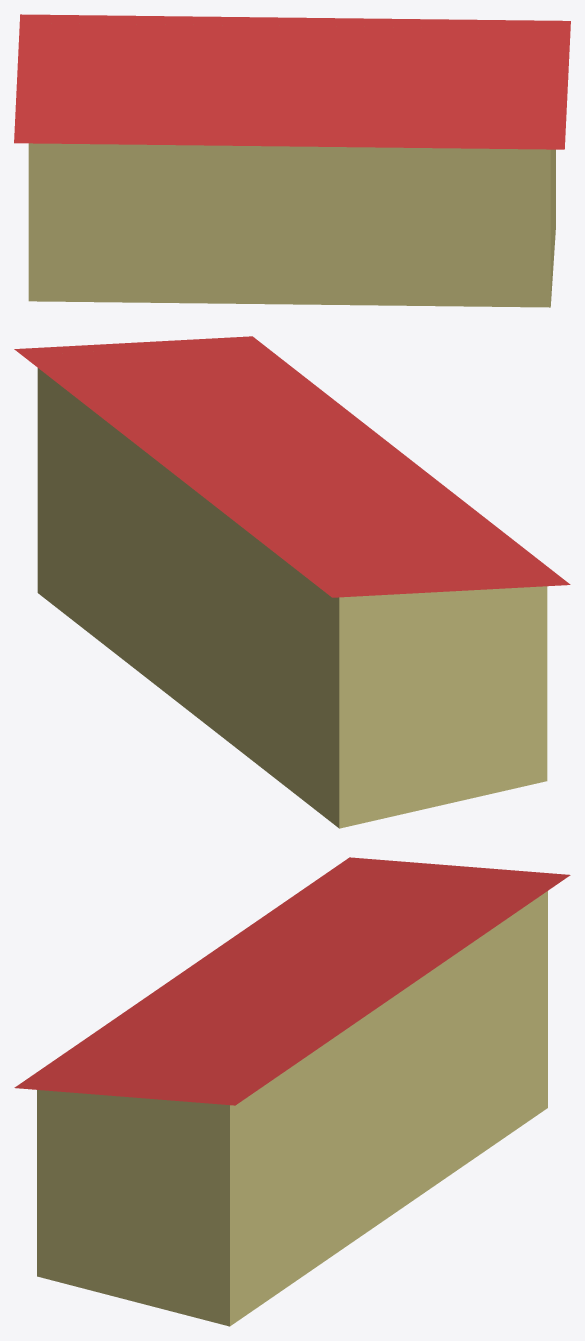
3 views of the same model, one above another, from view 1: azimuth 30°, elevation 25°; view 2: azimuth 150°, elevation 25°; view 3: azimuth 270°, elevation 25° (orthographic). The views are drawn at different scales.
Bounding box in the file's own units: 30.45 × 24.87 × 11.37.
